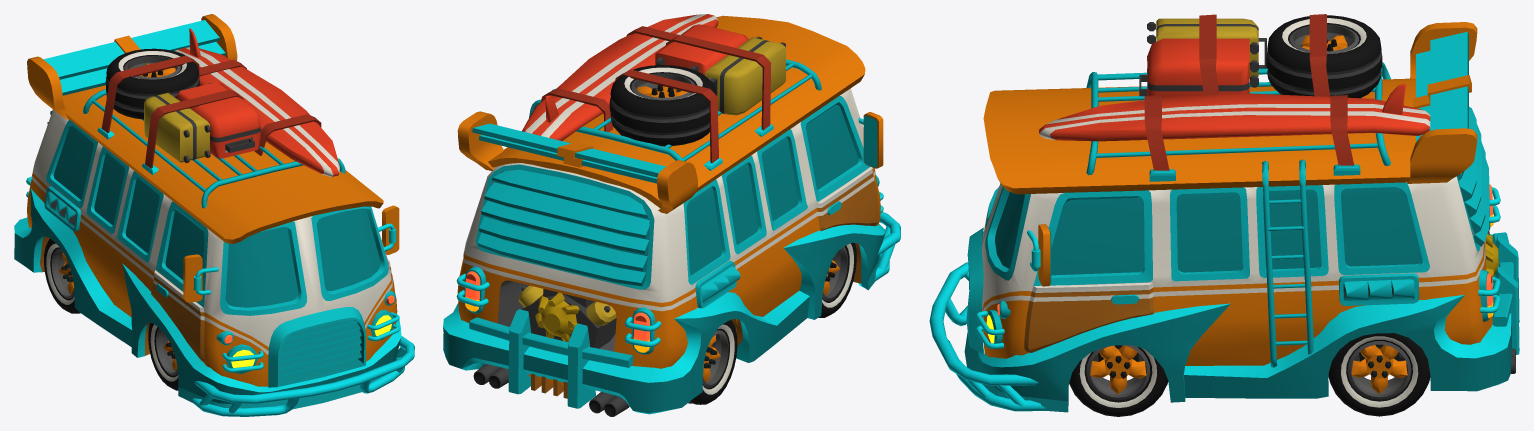
The model's file is SVehicle09.fbx.
The picture shows the model from 3 angles, left to right: view 1: azimuth 30°, elevation 25°; view 2: azimuth 150°, elevation 25°; view 3: azimuth 270°, elevation 25°; orthographic projection. The views are drawn at different scales.
Parts seen in each view (by area): view 1: SVehicle09, SV9_Parts, SV9_Wheel_BR, SV9_Wheel_FR; view 2: SVehicle09, SV9_Parts, SV9_Wheel_BR, SV9_Wheel_FR; view 3: SVehicle09, SV9_Parts, SV9_Wheel_BL, SV9_Wheel_FL.
Boxes of the visible parts, box(x1,y1,x2,y2) form: SVehicle09: box(14, 14, 414, 416); SV9_Parts: box(97, 28, 339, 176); SV9_Wheel_BR: box(44, 239, 80, 313); SV9_Wheel_FR: box(148, 323, 178, 390); SVehicle09: box(443, 15, 900, 416); SV9_Parts: box(518, 14, 785, 348); SV9_Wheel_BR: box(688, 320, 737, 404); SV9_Wheel_FR: box(818, 242, 856, 317); SVehicle09: box(929, 22, 1519, 412); SV9_Parts: box(1039, 14, 1498, 367); SV9_Wheel_BL: box(1328, 333, 1430, 416); SV9_Wheel_FL: box(1069, 345, 1168, 416).
Size of the model in its own units: 259 by 287 by 494.
Materials: 1 (1 with a texture image).
